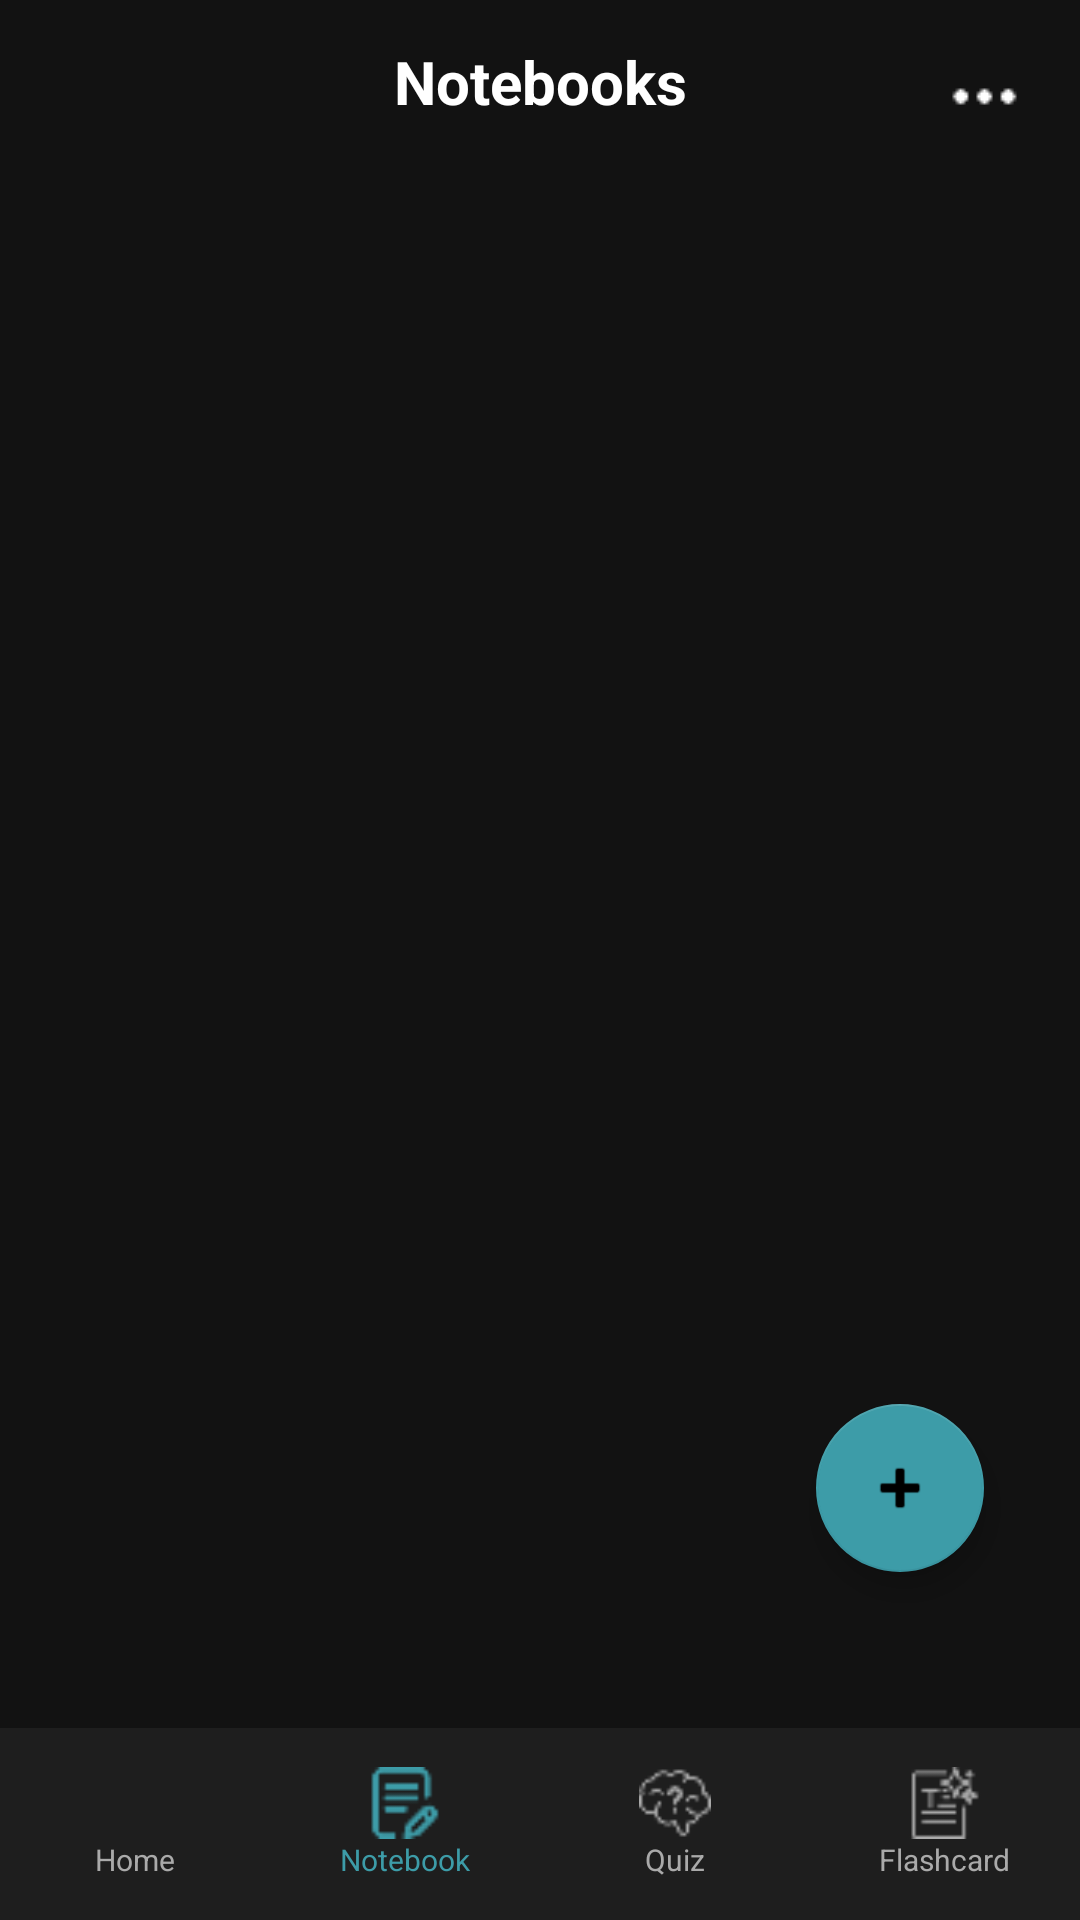

Where icons sit on this 1080 × 1920 app screen, as (x1, y1, x2, y2):
add: (816, 1404, 984, 1572)
aisummarize: (911, 1767, 979, 1839)
dots: (952, 88, 1017, 105)
